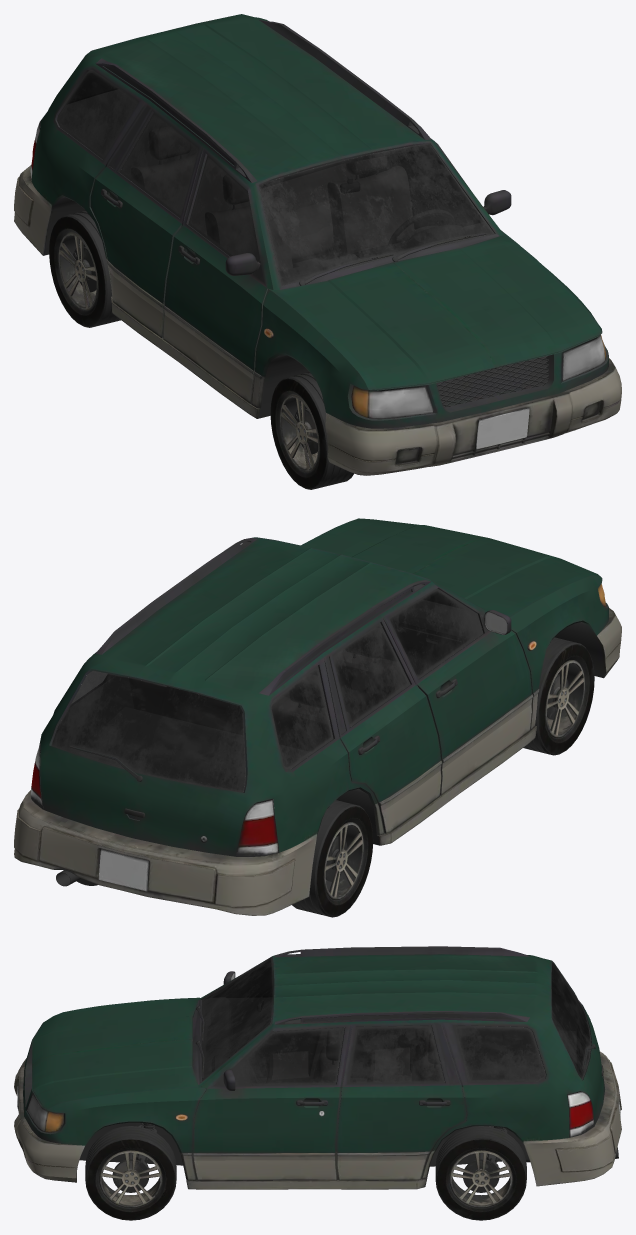
The model's file is subaru_forester.glb.
3 views of the same model, one above another, from view 1: azimuth 30°, elevation 25°; view 2: azimuth 150°, elevation 25°; view 3: azimuth 270°, elevation 25° (orthographic). The views are drawn at different scales.
Visible parts, largest first — view 1: defaultMaterial (×3); view 2: defaultMaterial (×3); view 3: defaultMaterial (×3).
Boxes of the visible parts, bbox=[...] form: defaultMaterial (×3): bbox=[14, 14, 621, 489]; defaultMaterial (×3): bbox=[14, 518, 621, 917]; defaultMaterial (×3): bbox=[14, 946, 621, 1220].
Size of the model in its own units: 2.09 by 1.69 by 4.9.
4 materials, 4 textured.
